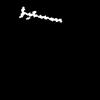double_crochet: (20, 7, 61, 21)
